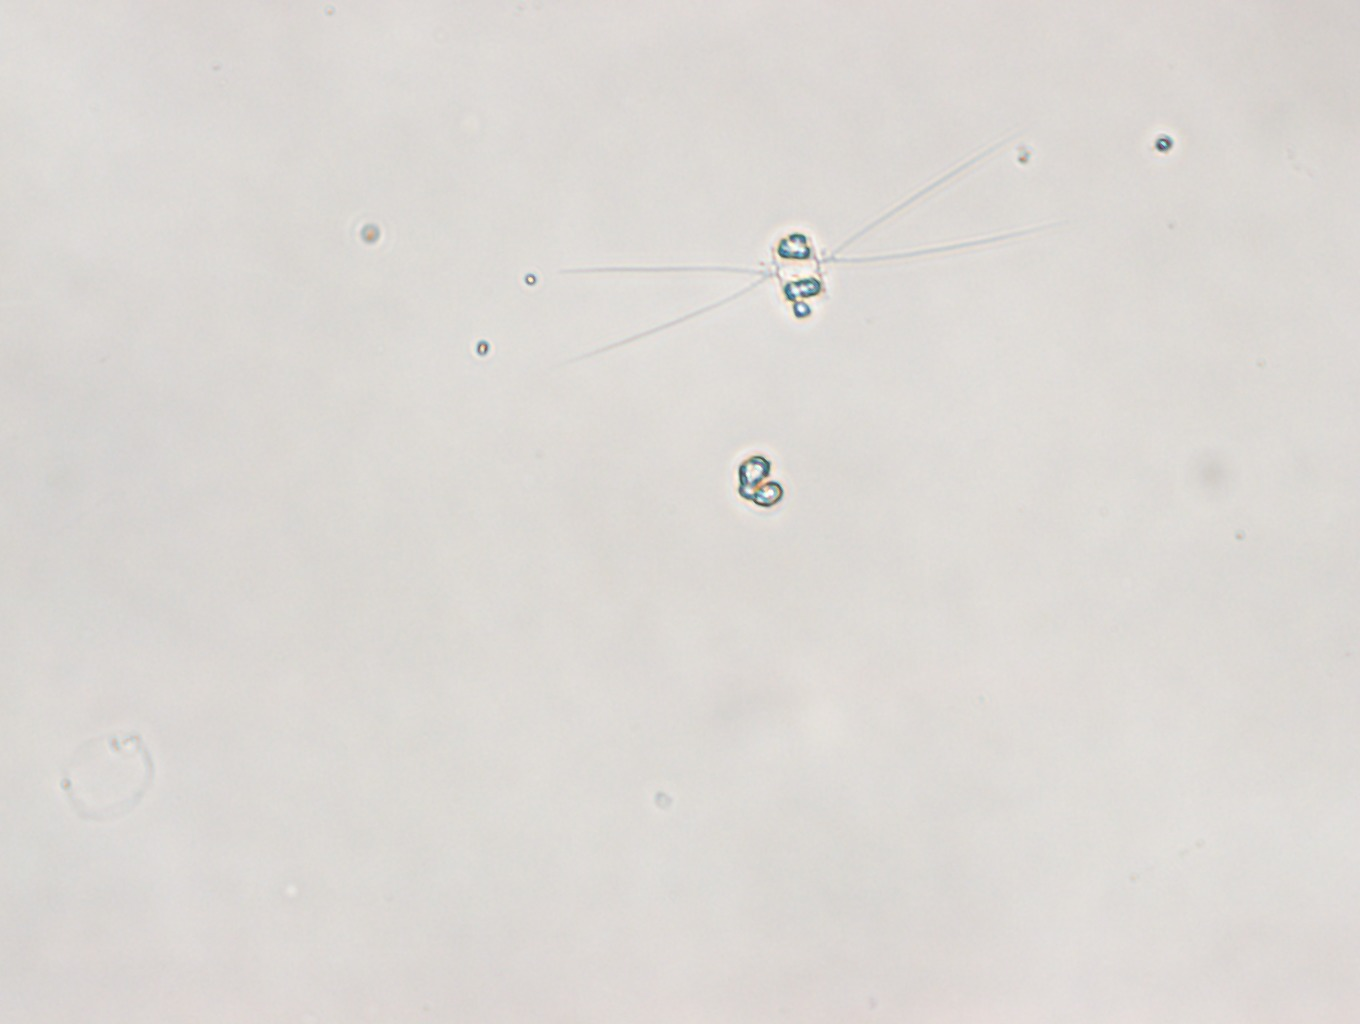chaetoceros: (553, 131, 1064, 375)
